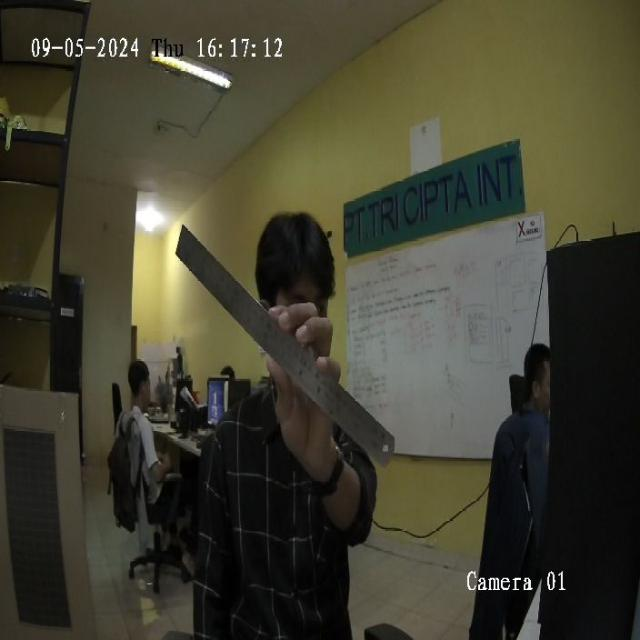Ruler: (175, 226, 395, 463)
